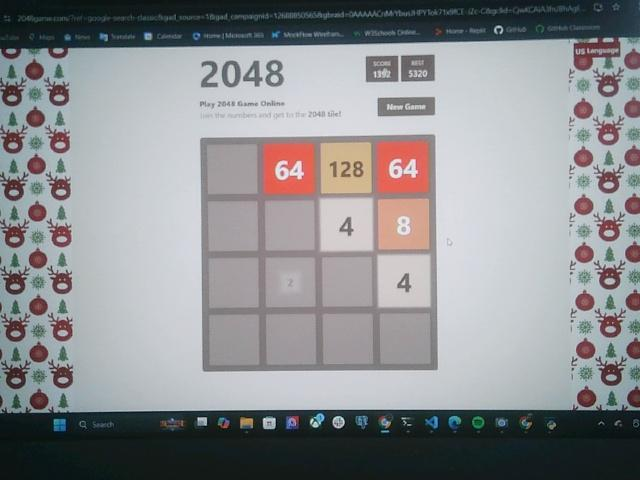board: (201, 137, 437, 368)
tile: (320, 198, 374, 253), (378, 256, 430, 308), (320, 143, 372, 194), (376, 142, 427, 194), (378, 199, 429, 251), (263, 144, 315, 194)
